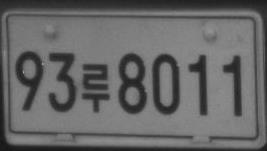0: (151, 52, 180, 116)
1: (186, 53, 216, 115), (220, 54, 249, 116)
3: (48, 51, 76, 112)
8: (117, 51, 147, 115)
9: (15, 50, 43, 111)
루: (81, 63, 110, 114)
